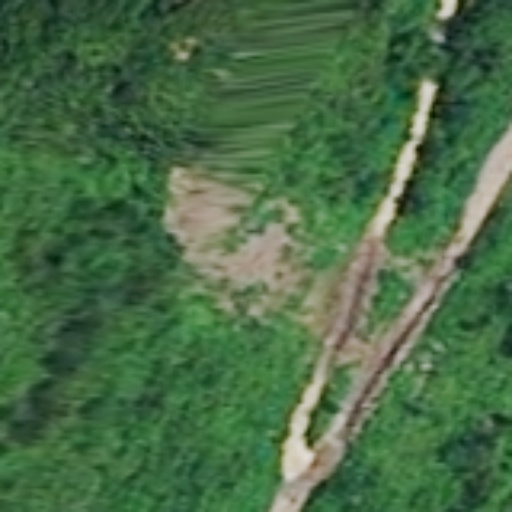landslide: (154, 166, 299, 307)
